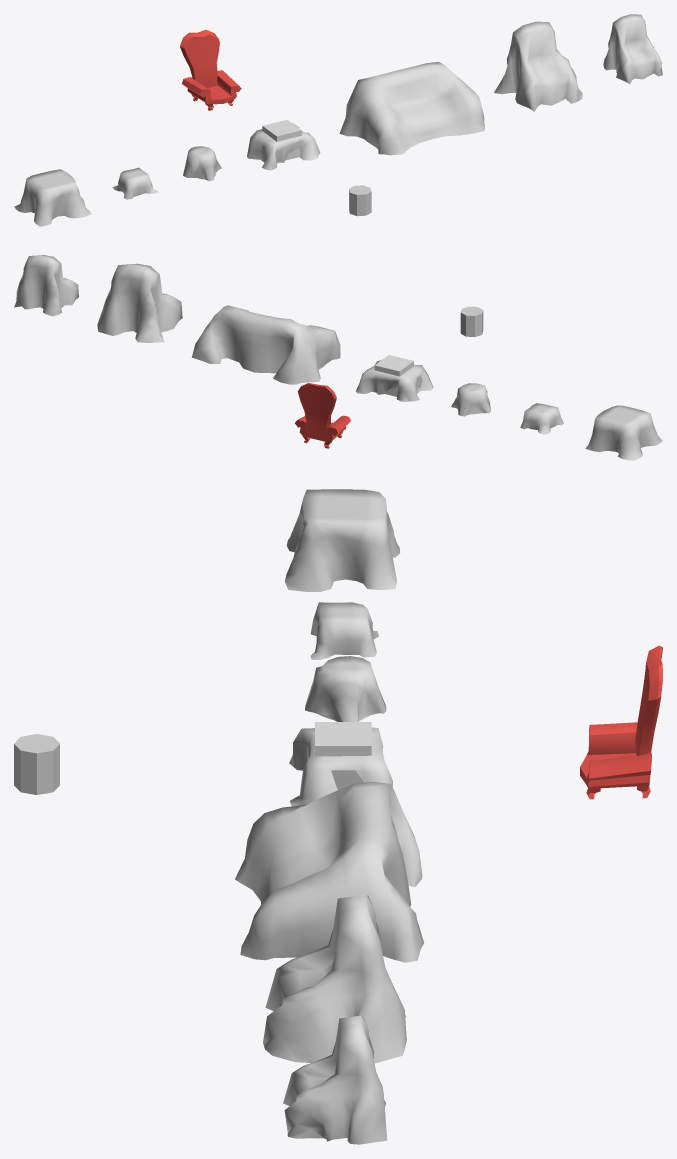
File: ClothCoveredObjects.fbx
3 renders of one model, top to bottom at view 1: azimuth 30°, elevation 25°; view 2: azimuth 150°, elevation 25°; view 3: azimuth 270°, elevation 25°, orthographic. The views are drawn at different scales.
Visible parts, largest first — view 1: cloth sofa, cloth living room chair, Chair, cloth chair, cloth big cube, cloth coffeetable, cloth sidetible, cloth small cube, Cube.001, Cylinder; view 2: cloth sofa, cloth living room chair, cloth big cube, cloth chair, Chair, cloth coffeetable, cloth sidetible, cloth small cube, Cylinder, Cube.001; view 3: cloth sofa, cloth living room chair, cloth big cube, cloth chair, Chair, cloth sidetible, cloth coffeetable, cloth small cube, Cylinder, Cube.001.
Boxes of the visible parts, box(x1,y1,x2,y2) form: cloth sofa: box(339, 62, 484, 155); cloth living room chair: box(494, 21, 582, 111); Chair: box(180, 30, 241, 110); cloth chair: box(603, 14, 662, 84); cloth big cube: box(14, 169, 91, 226); cloth coffeetable: box(247, 123, 320, 170); cloth sidetible: box(183, 146, 221, 181); cloth small cube: box(112, 167, 158, 199); Cube.001: box(262, 119, 301, 160); Cylinder: box(349, 185, 371, 216); cloth sofa: box(191, 305, 340, 384); cloth living room chair: box(97, 263, 182, 342); cloth big cube: box(585, 405, 662, 460); cloth chair: box(14, 255, 78, 316); Chair: box(295, 383, 350, 448); cloth coffeetable: box(356, 360, 433, 401); cloth sidetible: box(451, 383, 490, 416); cloth small cube: box(520, 403, 563, 434); Cylinder: box(460, 306, 483, 337); Cube.001: box(374, 355, 413, 396); cloth sofa: box(235, 781, 424, 962); cloth living room chair: box(263, 895, 406, 1063); cloth big cube: box(285, 489, 399, 591); cloth chair: box(283, 1015, 387, 1144); Chair: box(580, 645, 662, 799); cloth sidetible: box(305, 656, 386, 721); cloth coffeetable: box(289, 727, 392, 806); cloth small cube: box(310, 602, 378, 659); Cylinder: box(14, 734, 59, 794); Cube.001: box(315, 722, 371, 756).
Bounding box in the file's own units: 1882 × 194 × 854.
